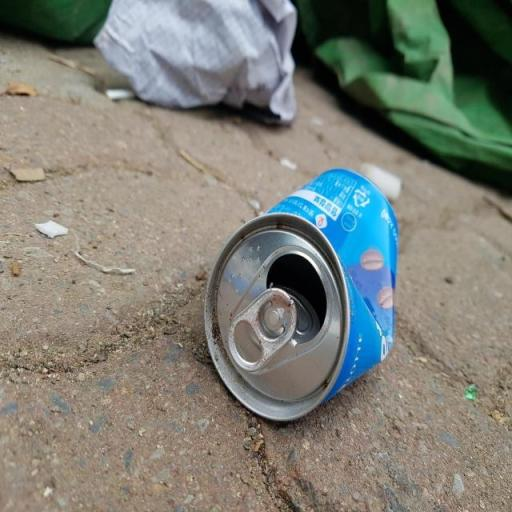metal: (182, 136, 421, 449)
